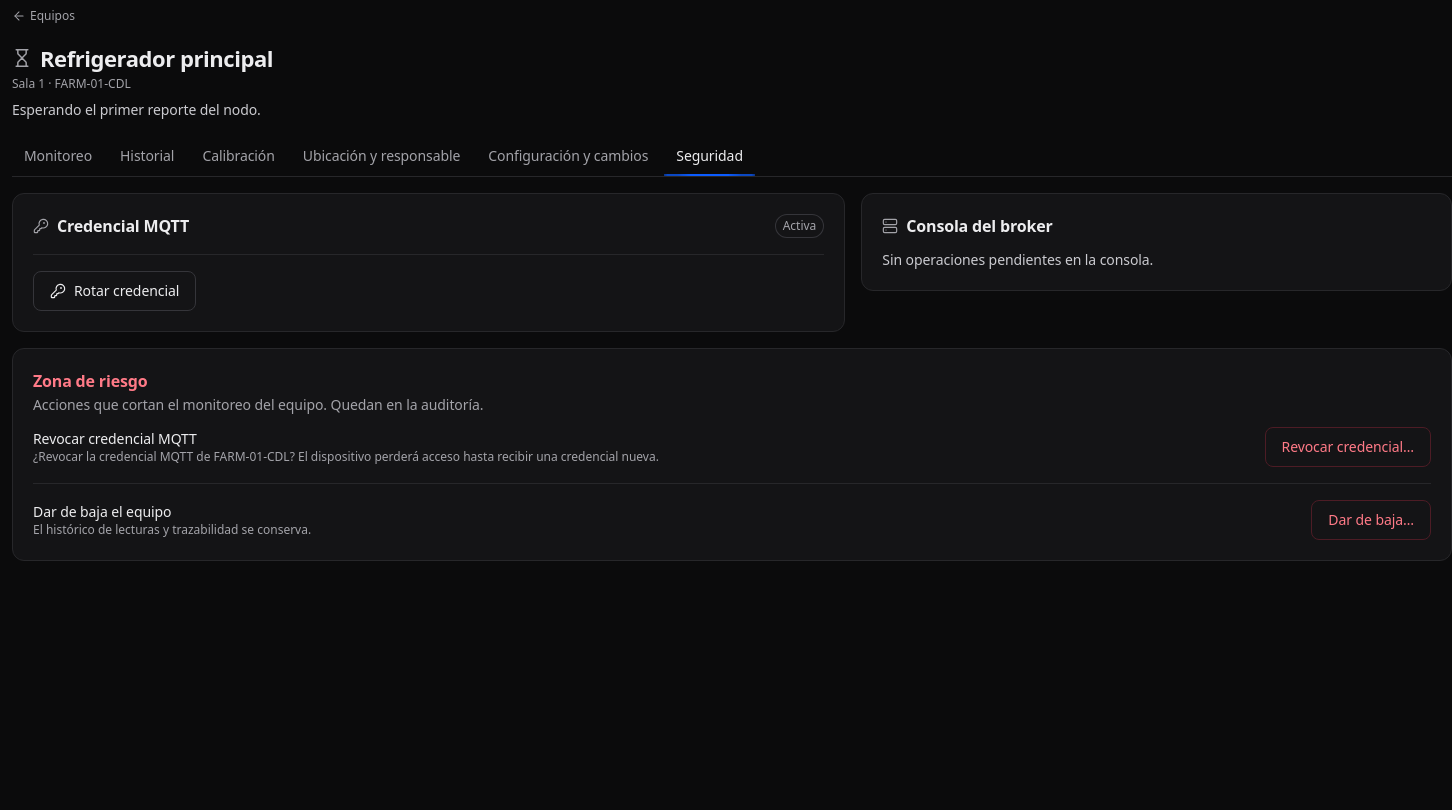
Detalle de dispositivo (pestañas) › pide motivo para rotar y muestra el token una sola vez
Click the button "Rotar credencial" at {"x": 115, "y": 291}, box [33,271,196,311]
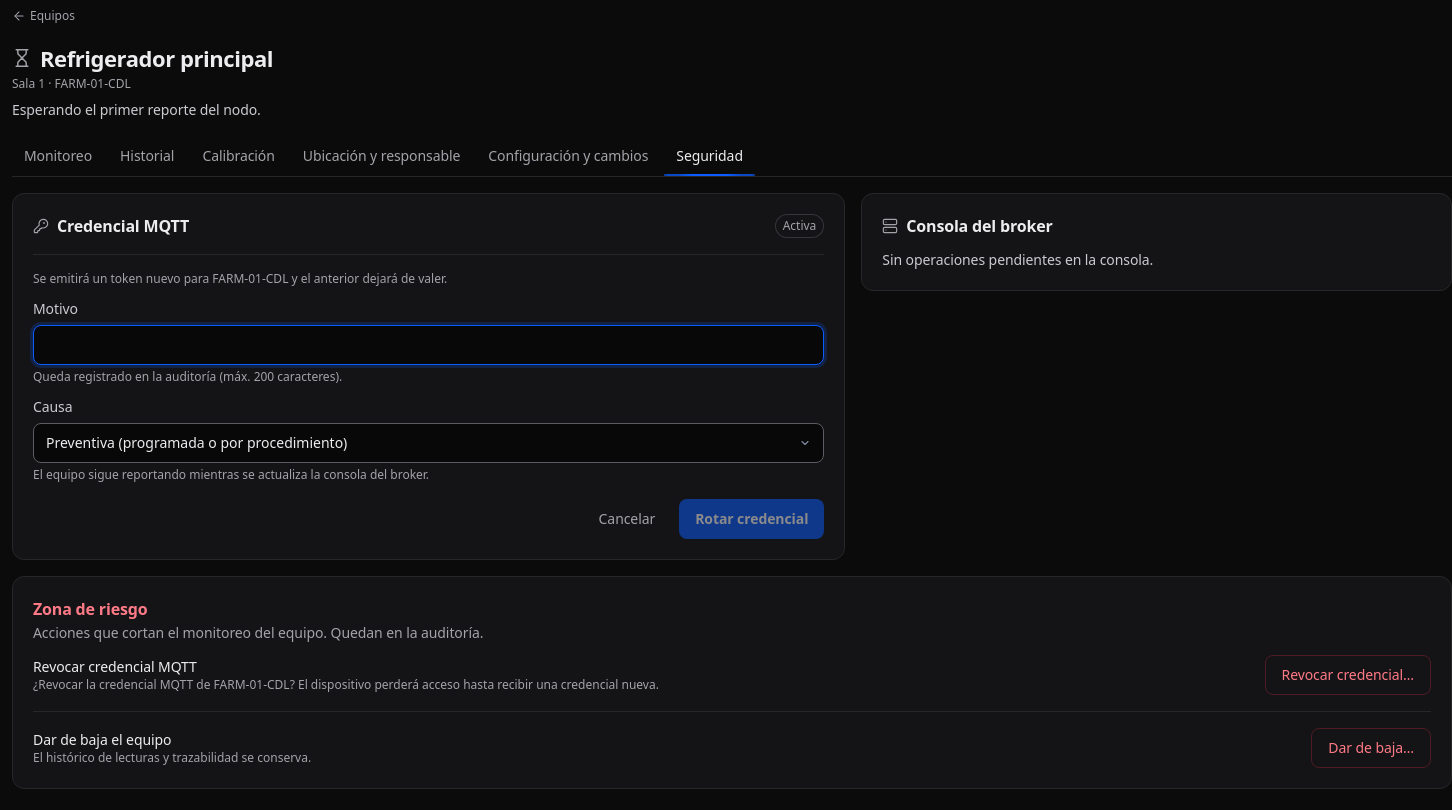
Expected: the button "Rotar credencial" is disabled, [679,499,824,539]
Type "Rotación periódica" into the field labelled "Motivo" at {"x": 429, "y": 345}, box [33,325,824,365]
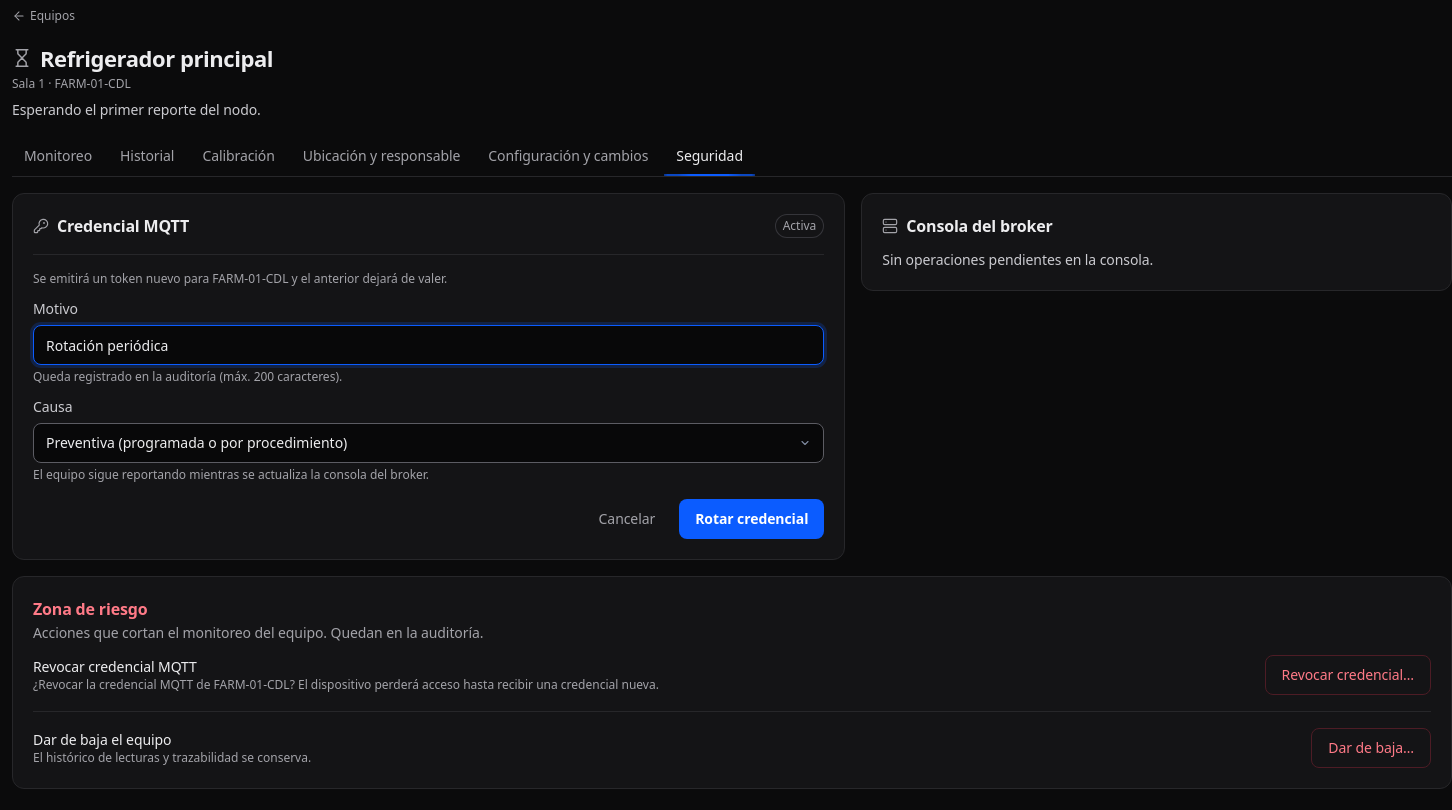
Select "Compromiso (el token anterior pudo filtrarse)" in the dropdown labelled "Causa" at {"x": 429, "y": 443}, box [33,423,824,463]
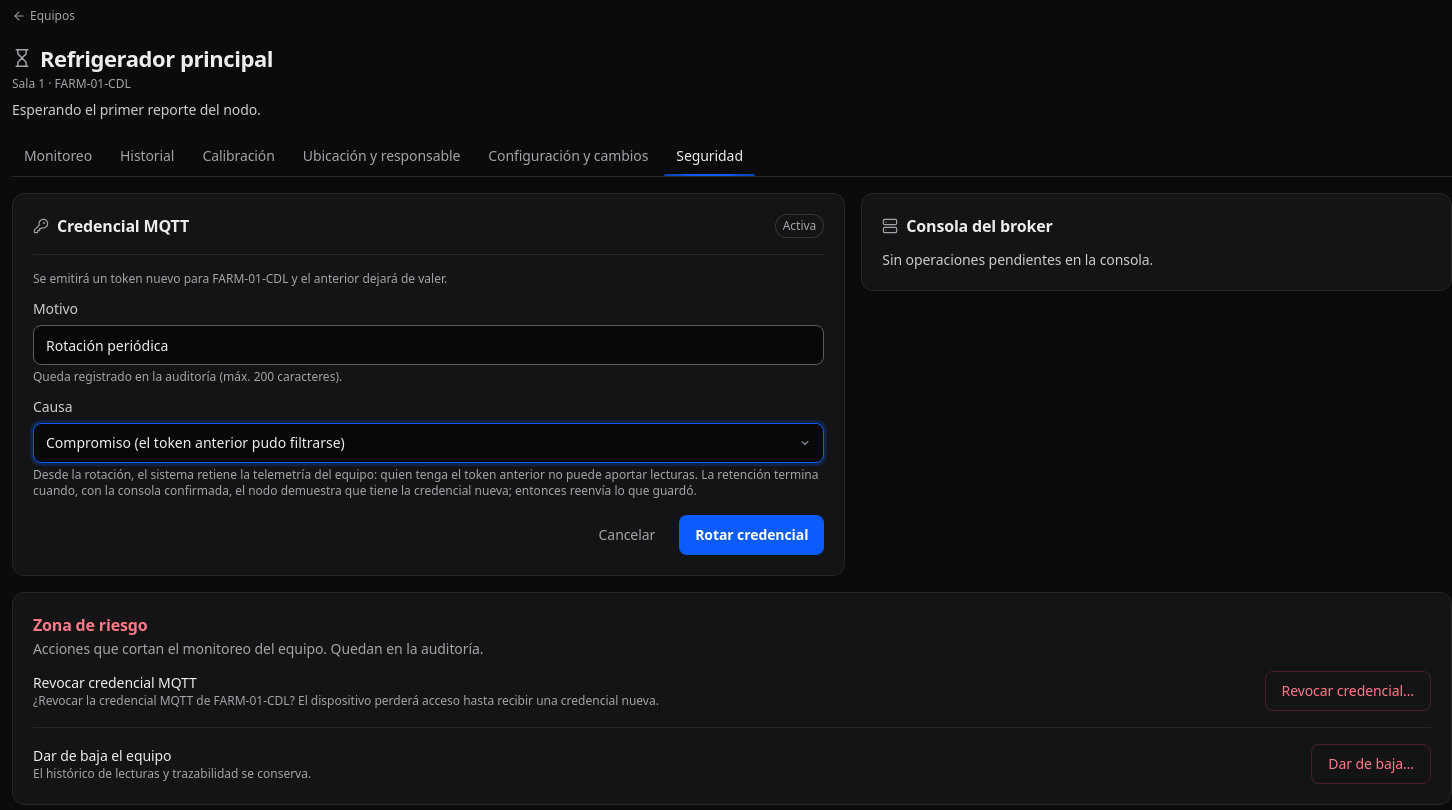
Expected: the text "retiene la telemetría del equipo" is shown, [33,466,818,499]
Click the button "Rotar credencial" at {"x": 752, "y": 535}, box [679,515,824,555]
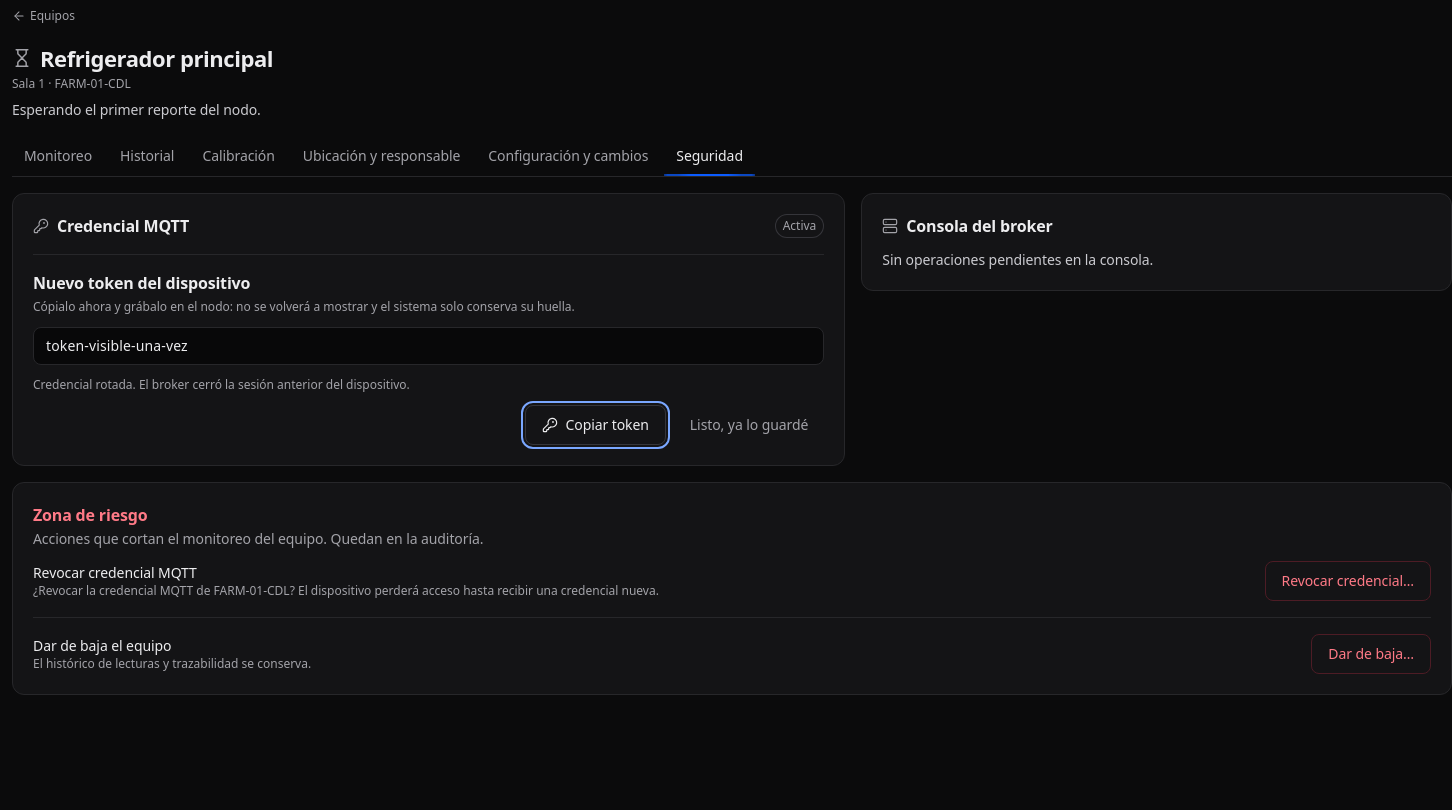
Expected: the text with test id "token-rotado" reads "token-visible-una-vez", [46,336,188,355]
Click the button "Listo, ya lo guardé" at {"x": 749, "y": 425}, box [674,405,824,445]
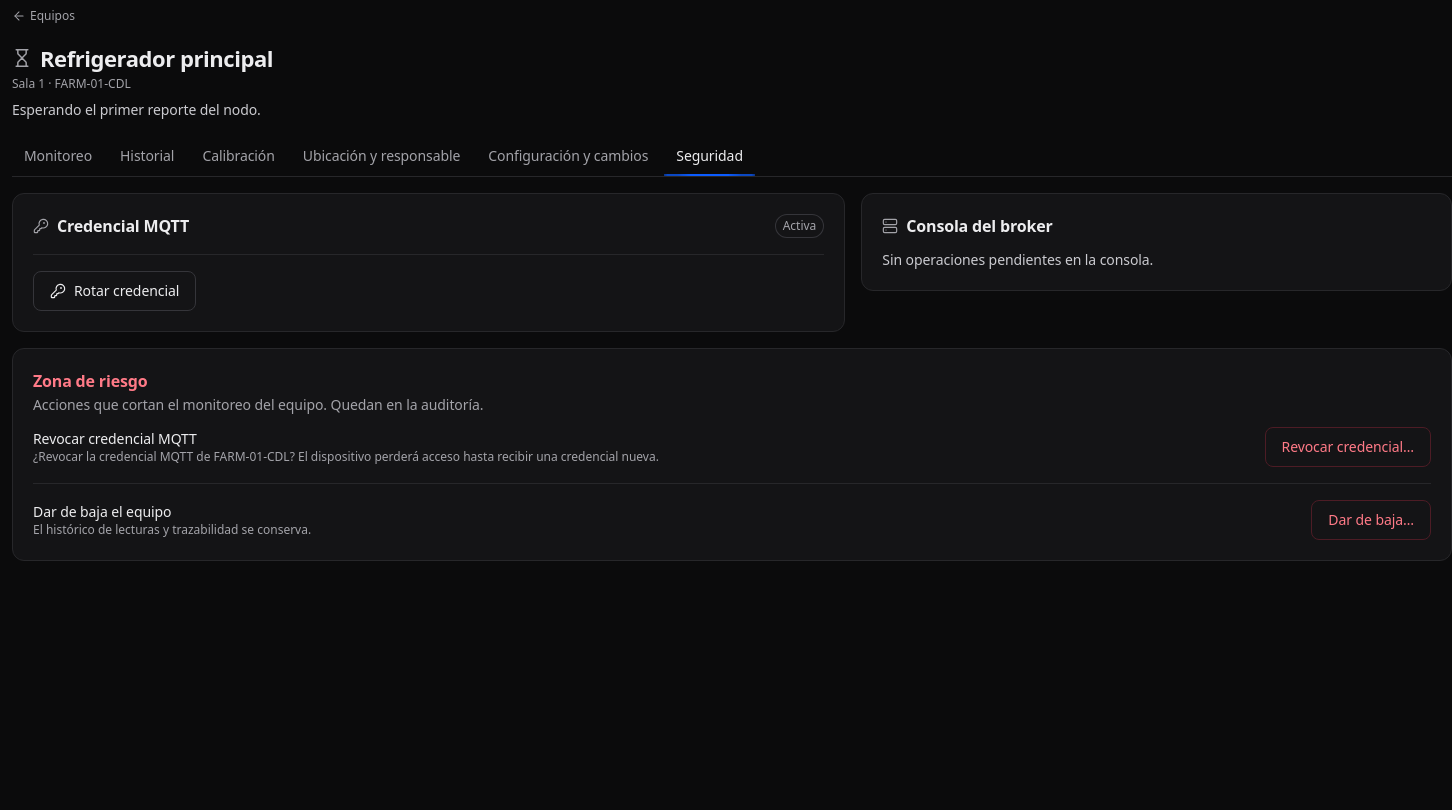
Expected: the text "token-visible-una-vez" is gone
